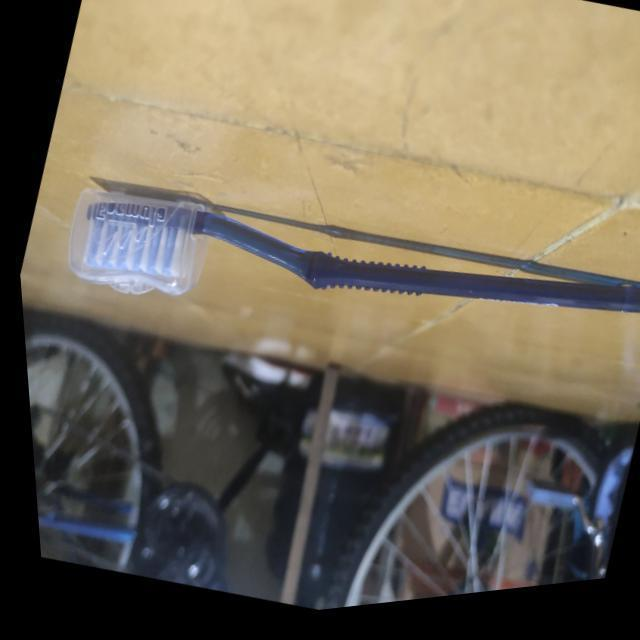toothbrush: (41, 99, 640, 471)
